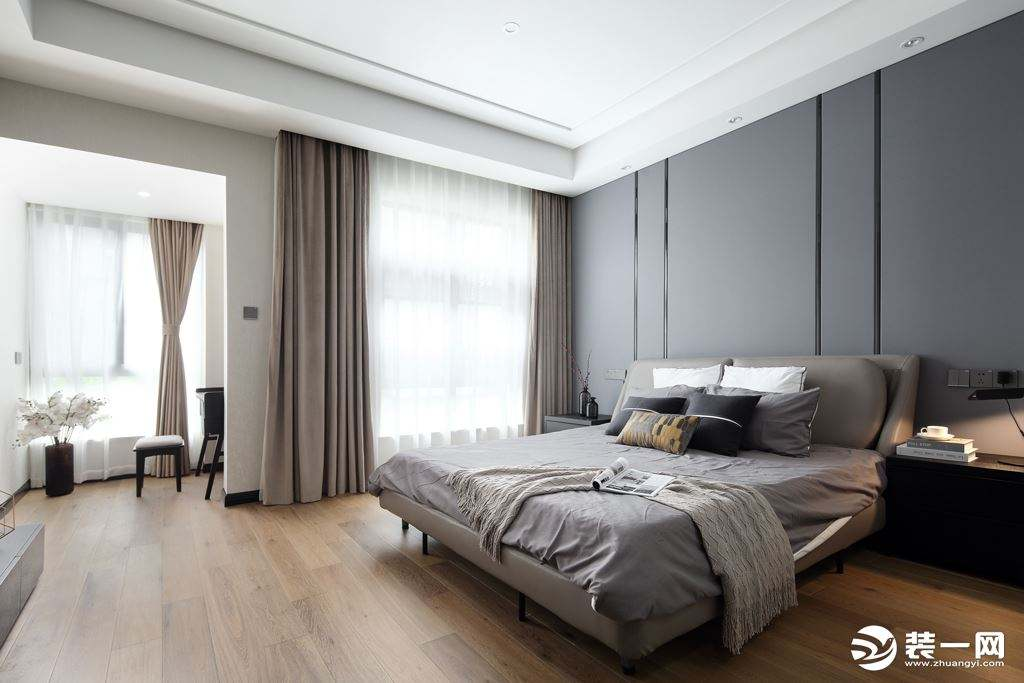床: (404, 424, 878, 661)
枕头: (621, 364, 824, 460)
灯: (968, 386, 1024, 473), (896, 37, 924, 52), (722, 115, 745, 128), (618, 163, 636, 174)
